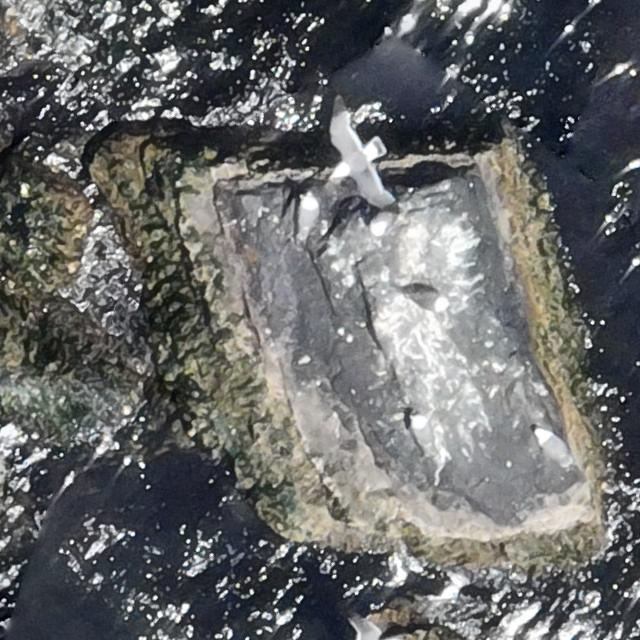F: (318, 98, 392, 197)
umineko: (536, 429, 574, 466), (296, 190, 319, 247), (371, 202, 402, 237), (404, 288, 444, 308), (410, 414, 428, 448)
